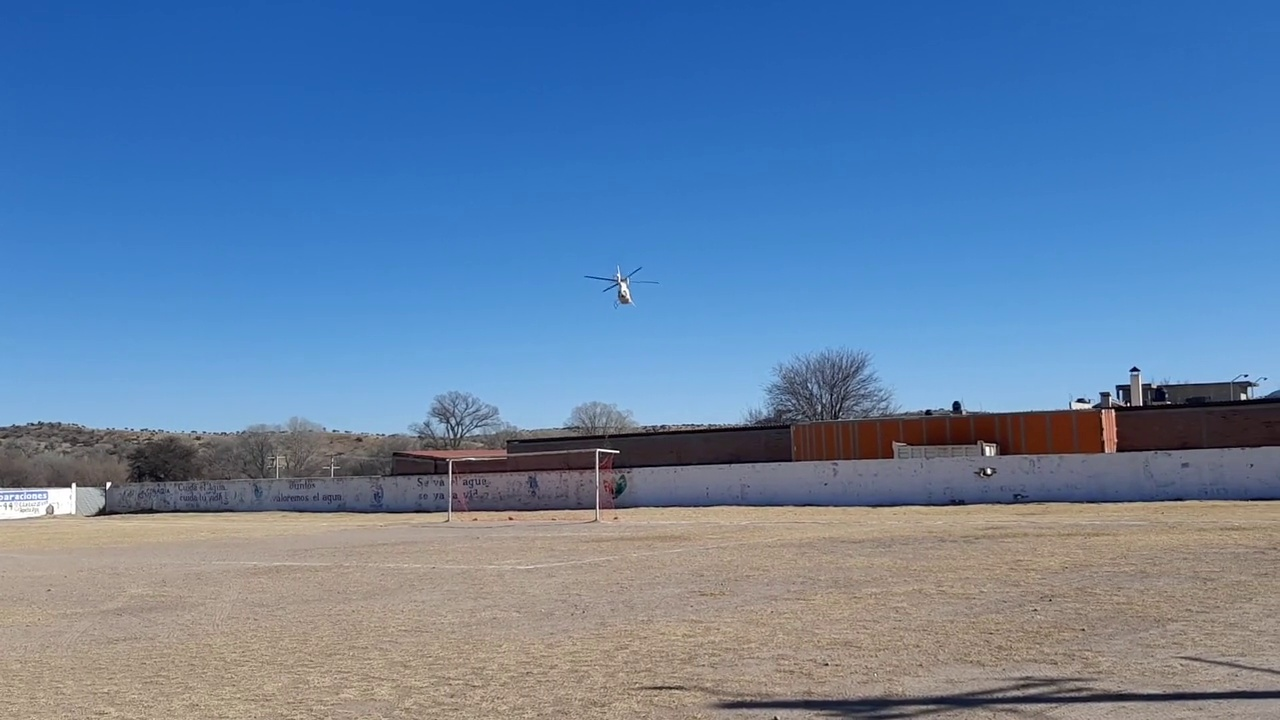heli: (584, 262, 660, 306)
